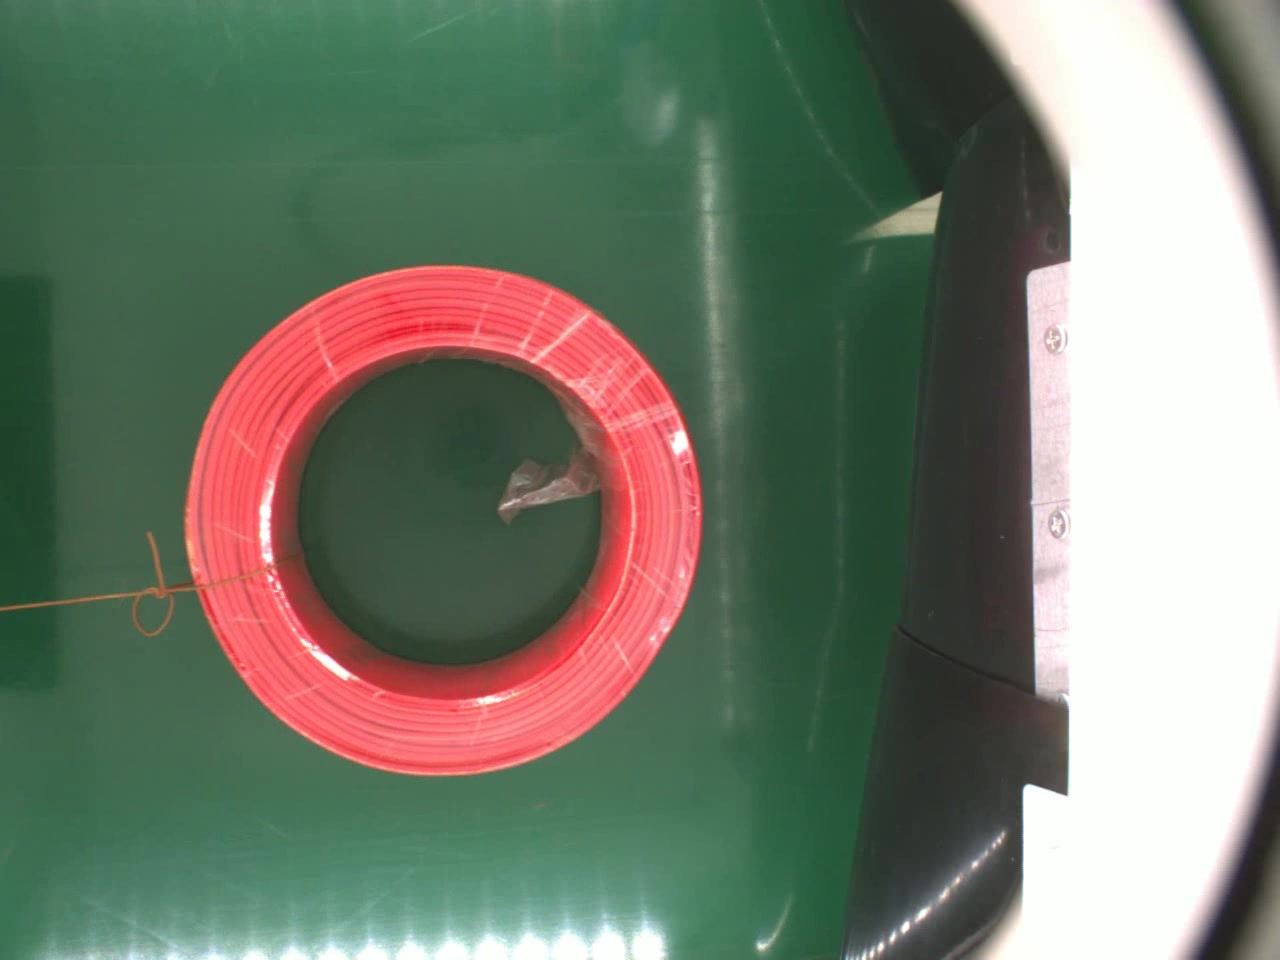red: (182, 260, 713, 781)
